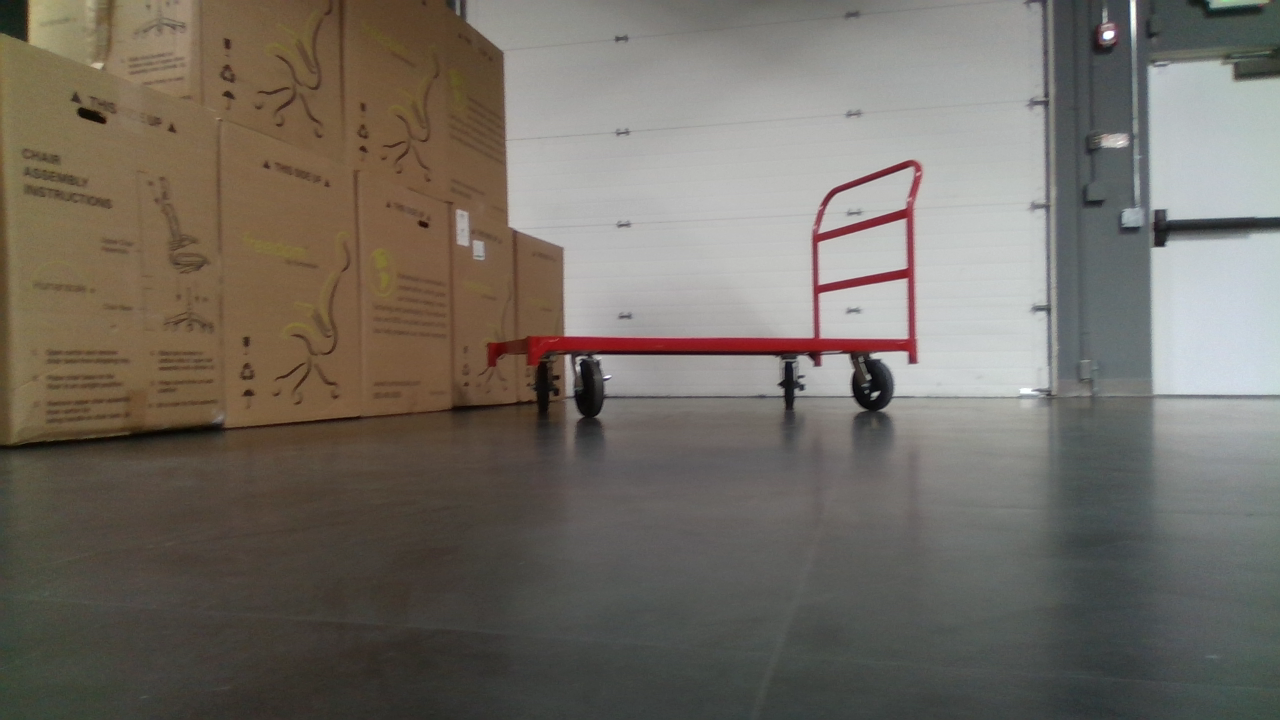Dolly: (483, 156, 923, 421)
Wheel: (569, 358, 612, 419), (851, 356, 896, 412), (529, 356, 563, 410), (774, 356, 805, 409)
